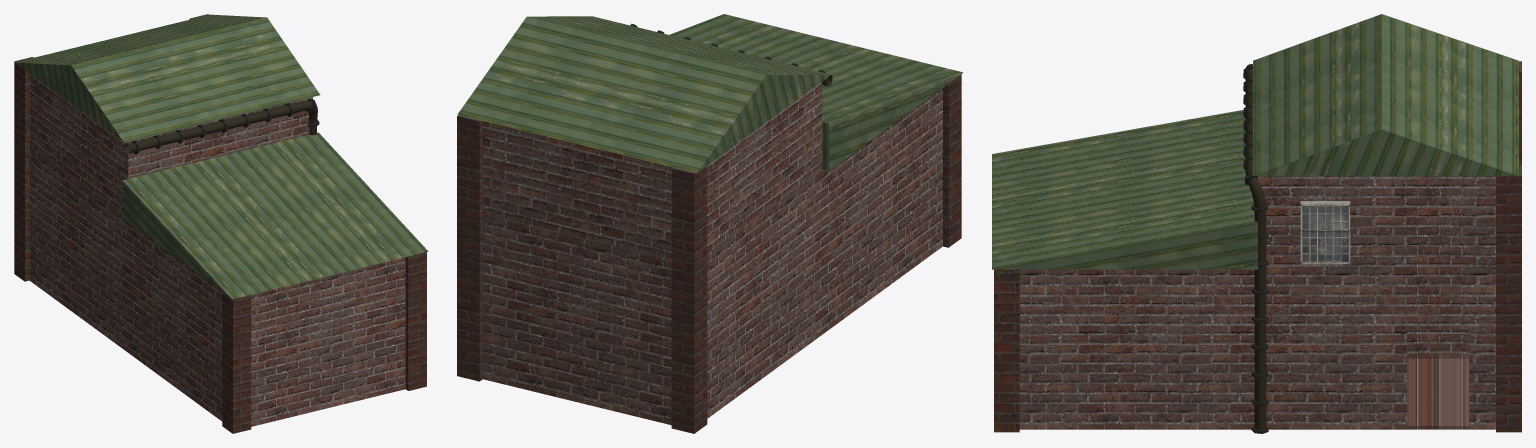
The model's file is Building 2 Alt.fbx.
The picture shows the model from 3 angles, left to right: view 1: azimuth 30°, elevation 25°; view 2: azimuth 150°, elevation 25°; view 3: azimuth 270°, elevation 25°; orthographic projection. The views are drawn at different scales.
Visible parts, largest first — view 1: Cube, Plane, Plane.001, Cube.001, BezierCurve, Cylinder; view 2: Cube, Plane.001, Cube.001, Plane; view 3: Cube, Plane.001, Plane, Cube.001, Cube.002, BezierCurve, Cube.007, Cylinder.
Part boxes in pixels (x1=…): Cube: x1=29, y1=74, x2=405, y2=426; Plane: x1=122, y1=132, x2=428, y2=299; Plane.001: x1=14, y1=14, x2=320, y2=142; Cube.001: x1=14, y1=14, x2=426, y2=433; BezierCurve: x1=125, y1=100, x2=317, y2=153; Cylinder: x1=131, y1=99, x2=319, y2=154; Cube: x1=483, y1=82, x2=942, y2=425; Plane.001: x1=457, y1=16, x2=831, y2=172; Cube.001: x1=457, y1=74, x2=961, y2=433; Plane: x1=669, y1=14, x2=963, y2=170; Cube: x1=1019, y1=176, x2=1495, y2=429; Plane.001: x1=1253, y1=14, x2=1518, y2=176; Plane: x1=992, y1=110, x2=1257, y2=269; Cube.001: x1=994, y1=61, x2=1521, y2=432; Cube.002: x1=1407, y1=329, x2=1469, y2=429; BezierCurve: x1=1245, y1=64, x2=1266, y2=429; Cube.007: x1=1300, y1=201, x2=1350, y2=264; Cylinder: x1=1243, y1=65, x2=1268, y2=433.
Bounding box in the file's own units: 1066 × 1303 × 2057.
